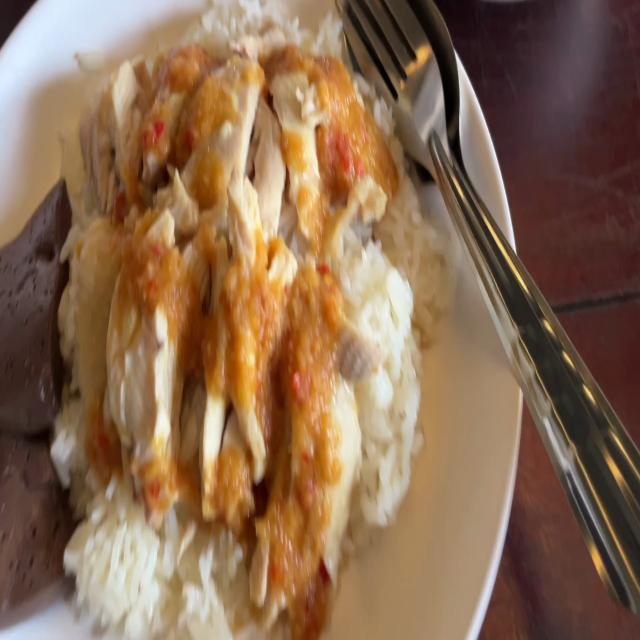chicken_rice: (91, 65, 347, 537)
noodle: (0, 173, 63, 442), (0, 424, 68, 607)
